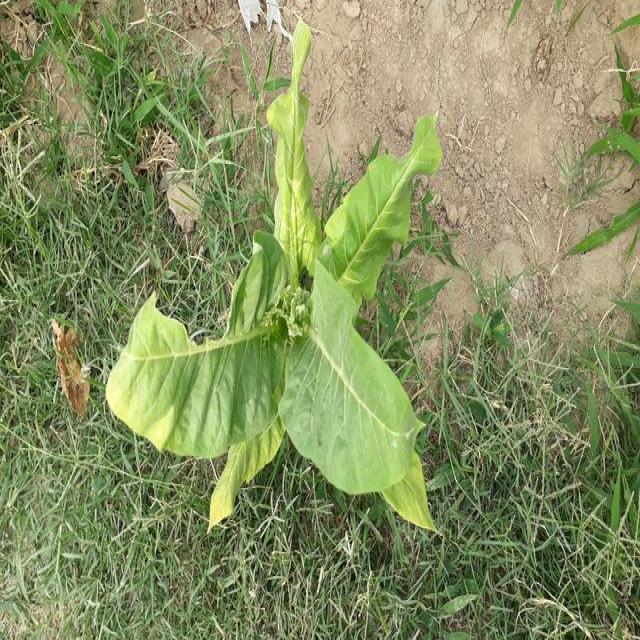crop: (128, 35, 438, 549)
